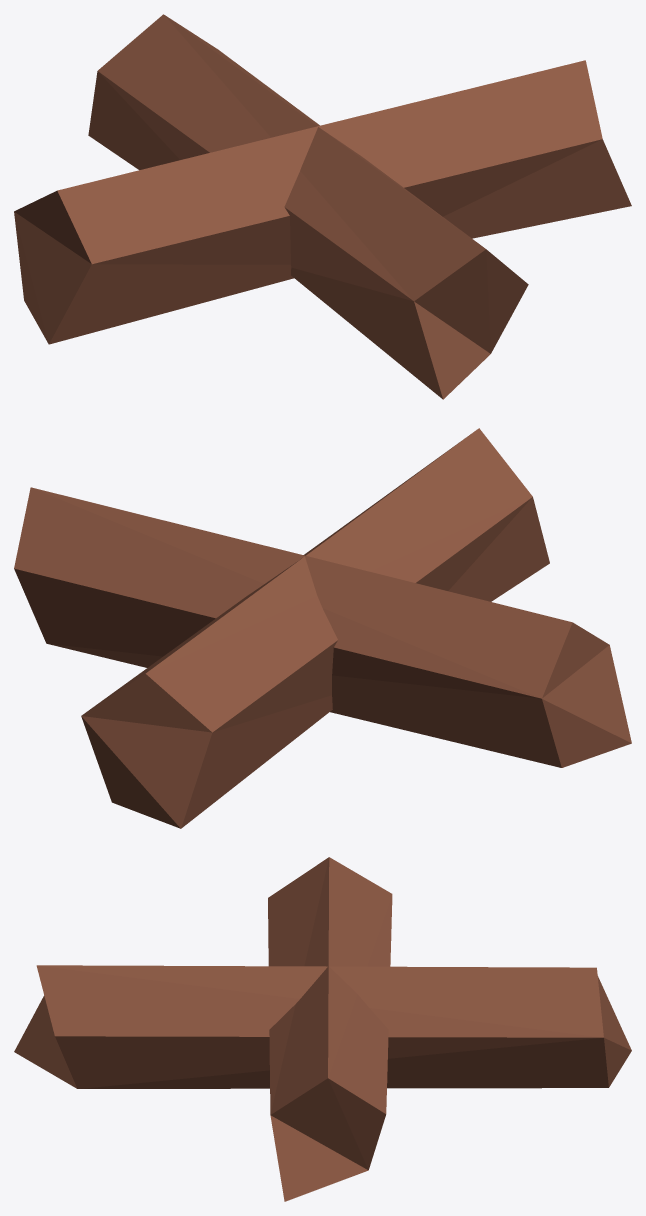
The model's file is campfire01.fbx.
3 renders of one model, top to bottom at view 1: azimuth 30°, elevation 25°; view 2: azimuth 150°, elevation 25°; view 3: azimuth 270°, elevation 25°, orthographic. The views are drawn at different scales.
Visible parts, largest first — view 1: campfire01; view 2: campfire01; view 3: campfire01.
Boxes of the visible parts, <box> form: campfire01: <box>14,14,631,399</box>; campfire01: <box>14,428,631,828</box>; campfire01: <box>14,857,631,1201</box>.
Size of the model in its own units: 133 by 28.91 by 141.
